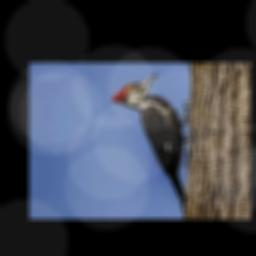Woodpecker: (111, 72, 190, 214)
